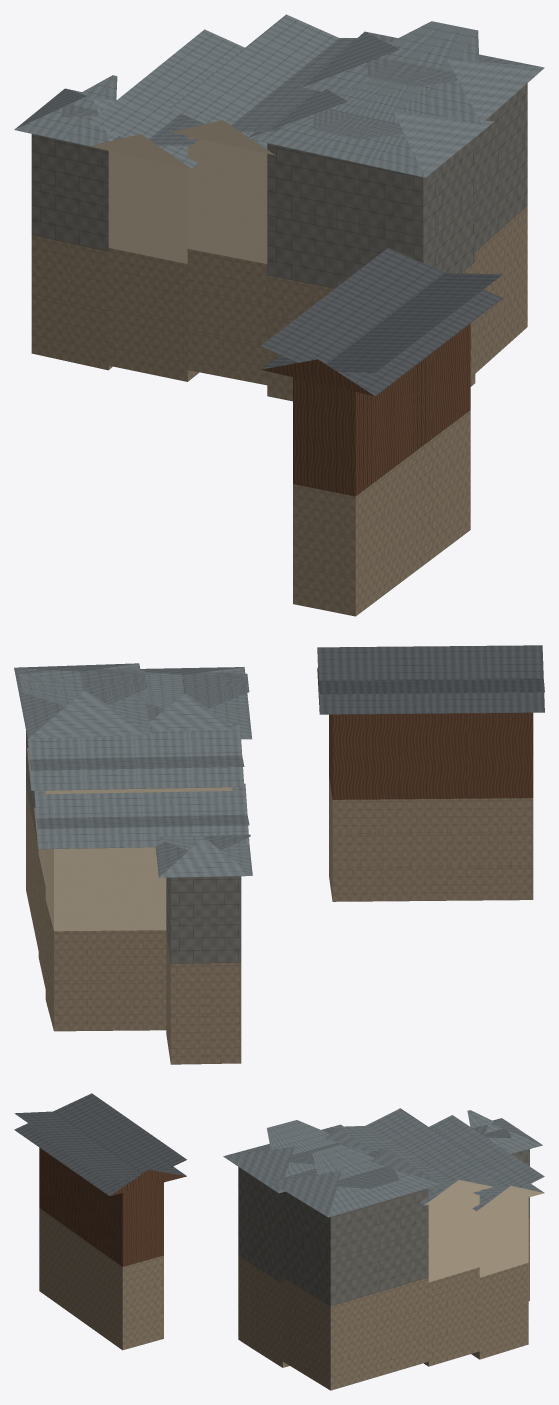
Rendered from bld_c29_-53_548.gltf.
3 renders of one model, top to bottom at view 1: azimuth 30°, elevation 25°; view 2: azimuth 150°, elevation 25°; view 3: azimuth 270°, elevation 25°, orthographic. The views are drawn at different scales.
Parts seen in each view (by area): view 1: bld_c29_-53_548; view 2: bld_c29_-53_548; view 3: bld_c29_-53_548.
Boxes of the visible parts, <box> form: bld_c29_-53_548: <box>14,14,544,616</box>; bld_c29_-53_548: <box>14,645,544,1064</box>; bld_c29_-53_548: <box>14,1093,544,1390</box>.
Size of the model in its own units: 20.01 by 13.6 by 29.13.
Materials: 8 (8 with a texture image).
